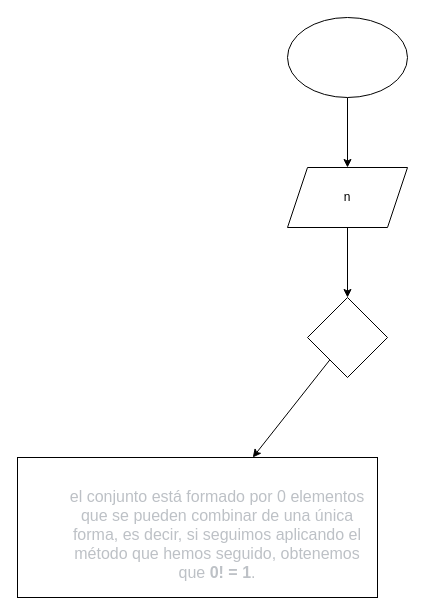
The diagram is 425 pixels wide and 615 high, and some of its shapes have lost their labels. Here are the shapes that lost their labels. From the top down, the box of each, then its label:
(286, 16, 408, 98): INICIO
(306, 296, 388, 378): n > 0
